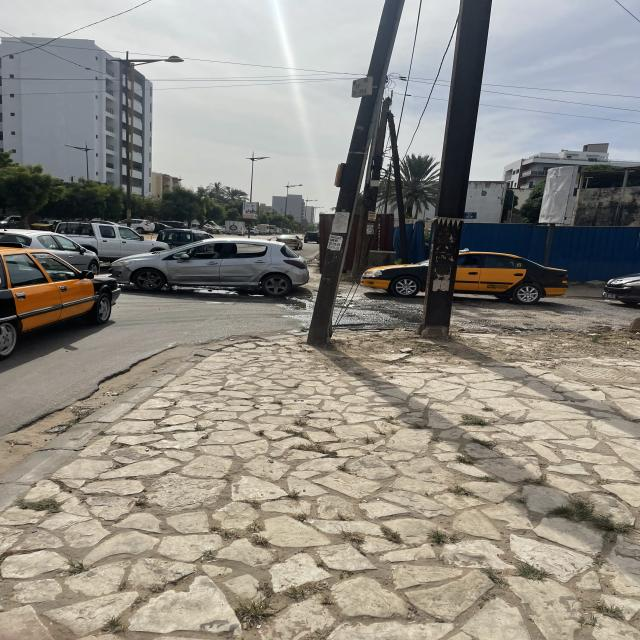particulier: (111, 238, 313, 298), (51, 221, 172, 262), (1, 228, 101, 273), (159, 227, 214, 251), (607, 269, 640, 307), (306, 231, 320, 246)
taxi: (2, 244, 122, 352), (362, 250, 573, 306)
